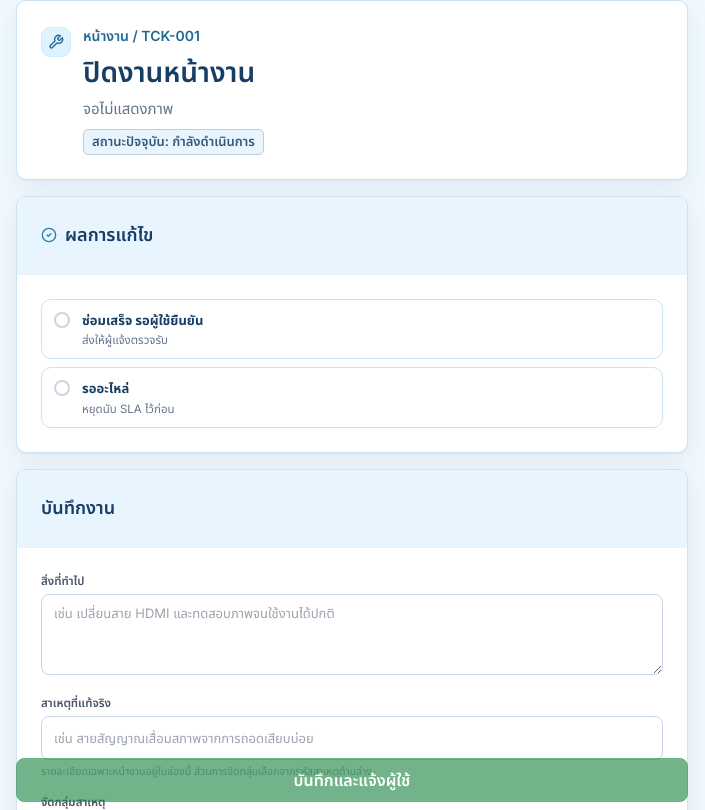
FieldCloseTicketPage › refuses to close without the work note the API also requires
Click the radio button labelled "ซ่อมเสร็จ รอผู้ใช้ยืนยัน ส่งให้ผู้แจ้งตรวจรับ" at (143, 320), box [41, 299, 663, 360]
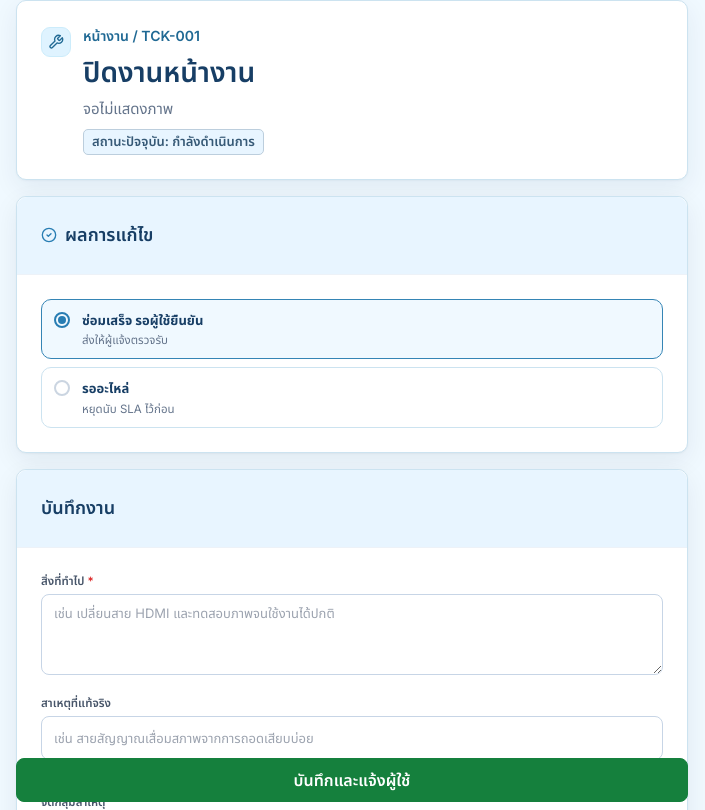
Click the button "บันทึกและแจ้งผู้ใช้" at (352, 780), box [16, 758, 688, 802]
(page scrolled)
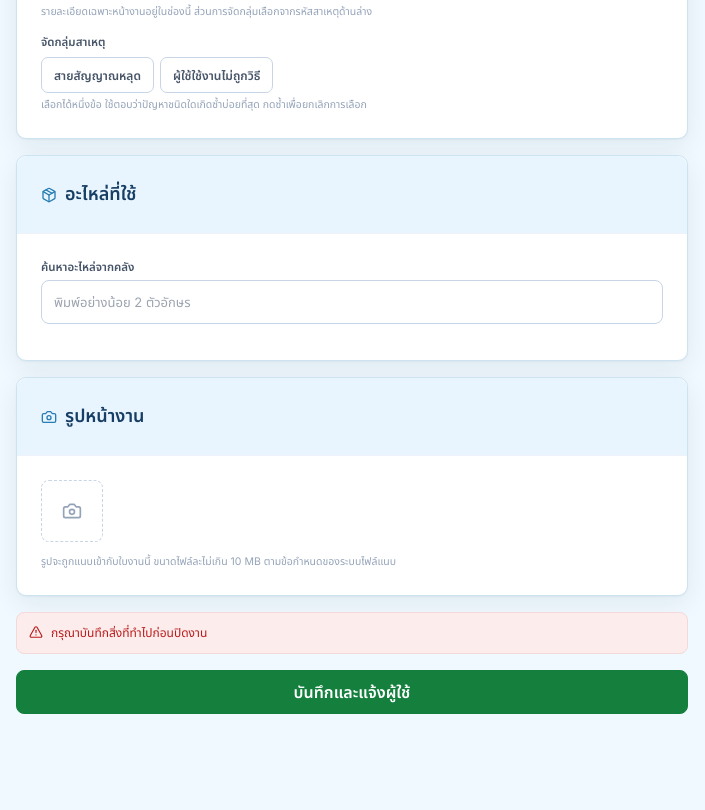
Expected: the message reads "กรุณาบันทึกสิ่งที่ทำไปก่อนปิดงาน", [51, 625, 207, 640]
